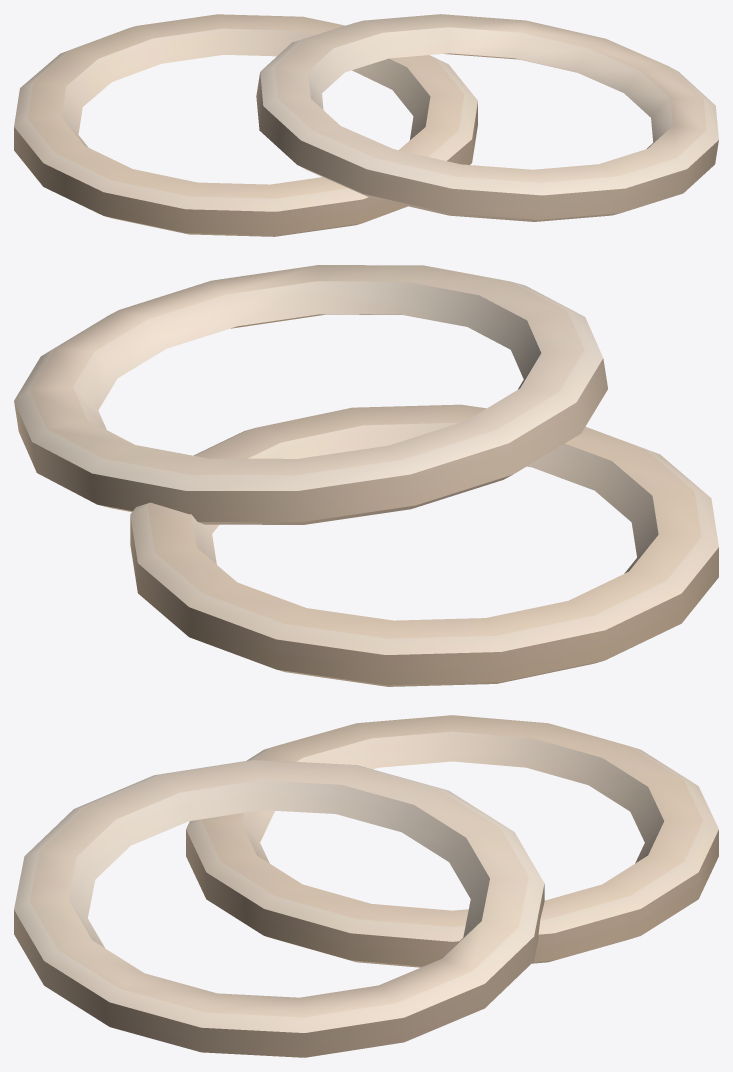
File: kaykit-restaurant-bits-food-ingredient-onion-rings.glb
3 views of the same model, one above another, from view 1: azimuth 30°, elevation 25°; view 2: azimuth 150°, elevation 25°; view 3: azimuth 270°, elevation 25° (orthographic). The views are drawn at different scales.
Parts seen in each view (by area): view 1: food_ingredient_onion_rings; view 2: food_ingredient_onion_rings; view 3: food_ingredient_onion_rings.
Part boxes in pixels (bbox=[...]): food_ingredient_onion_rings: bbox=[14, 14, 718, 236]; food_ingredient_onion_rings: bbox=[14, 265, 718, 686]; food_ingredient_onion_rings: bbox=[14, 715, 718, 1057].
Bounding box in the file's own units: 0.7758 × 0.1063 × 0.7296.
1 material, 1 textured.
